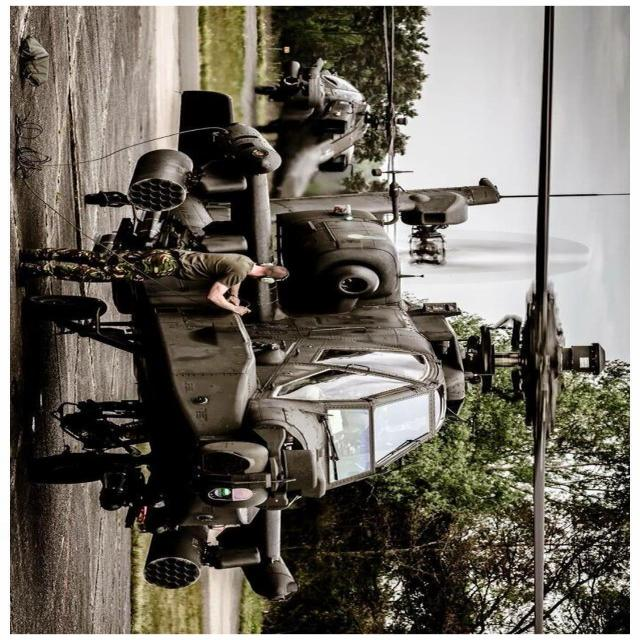MIL_HELO: (43, 0, 567, 637)
